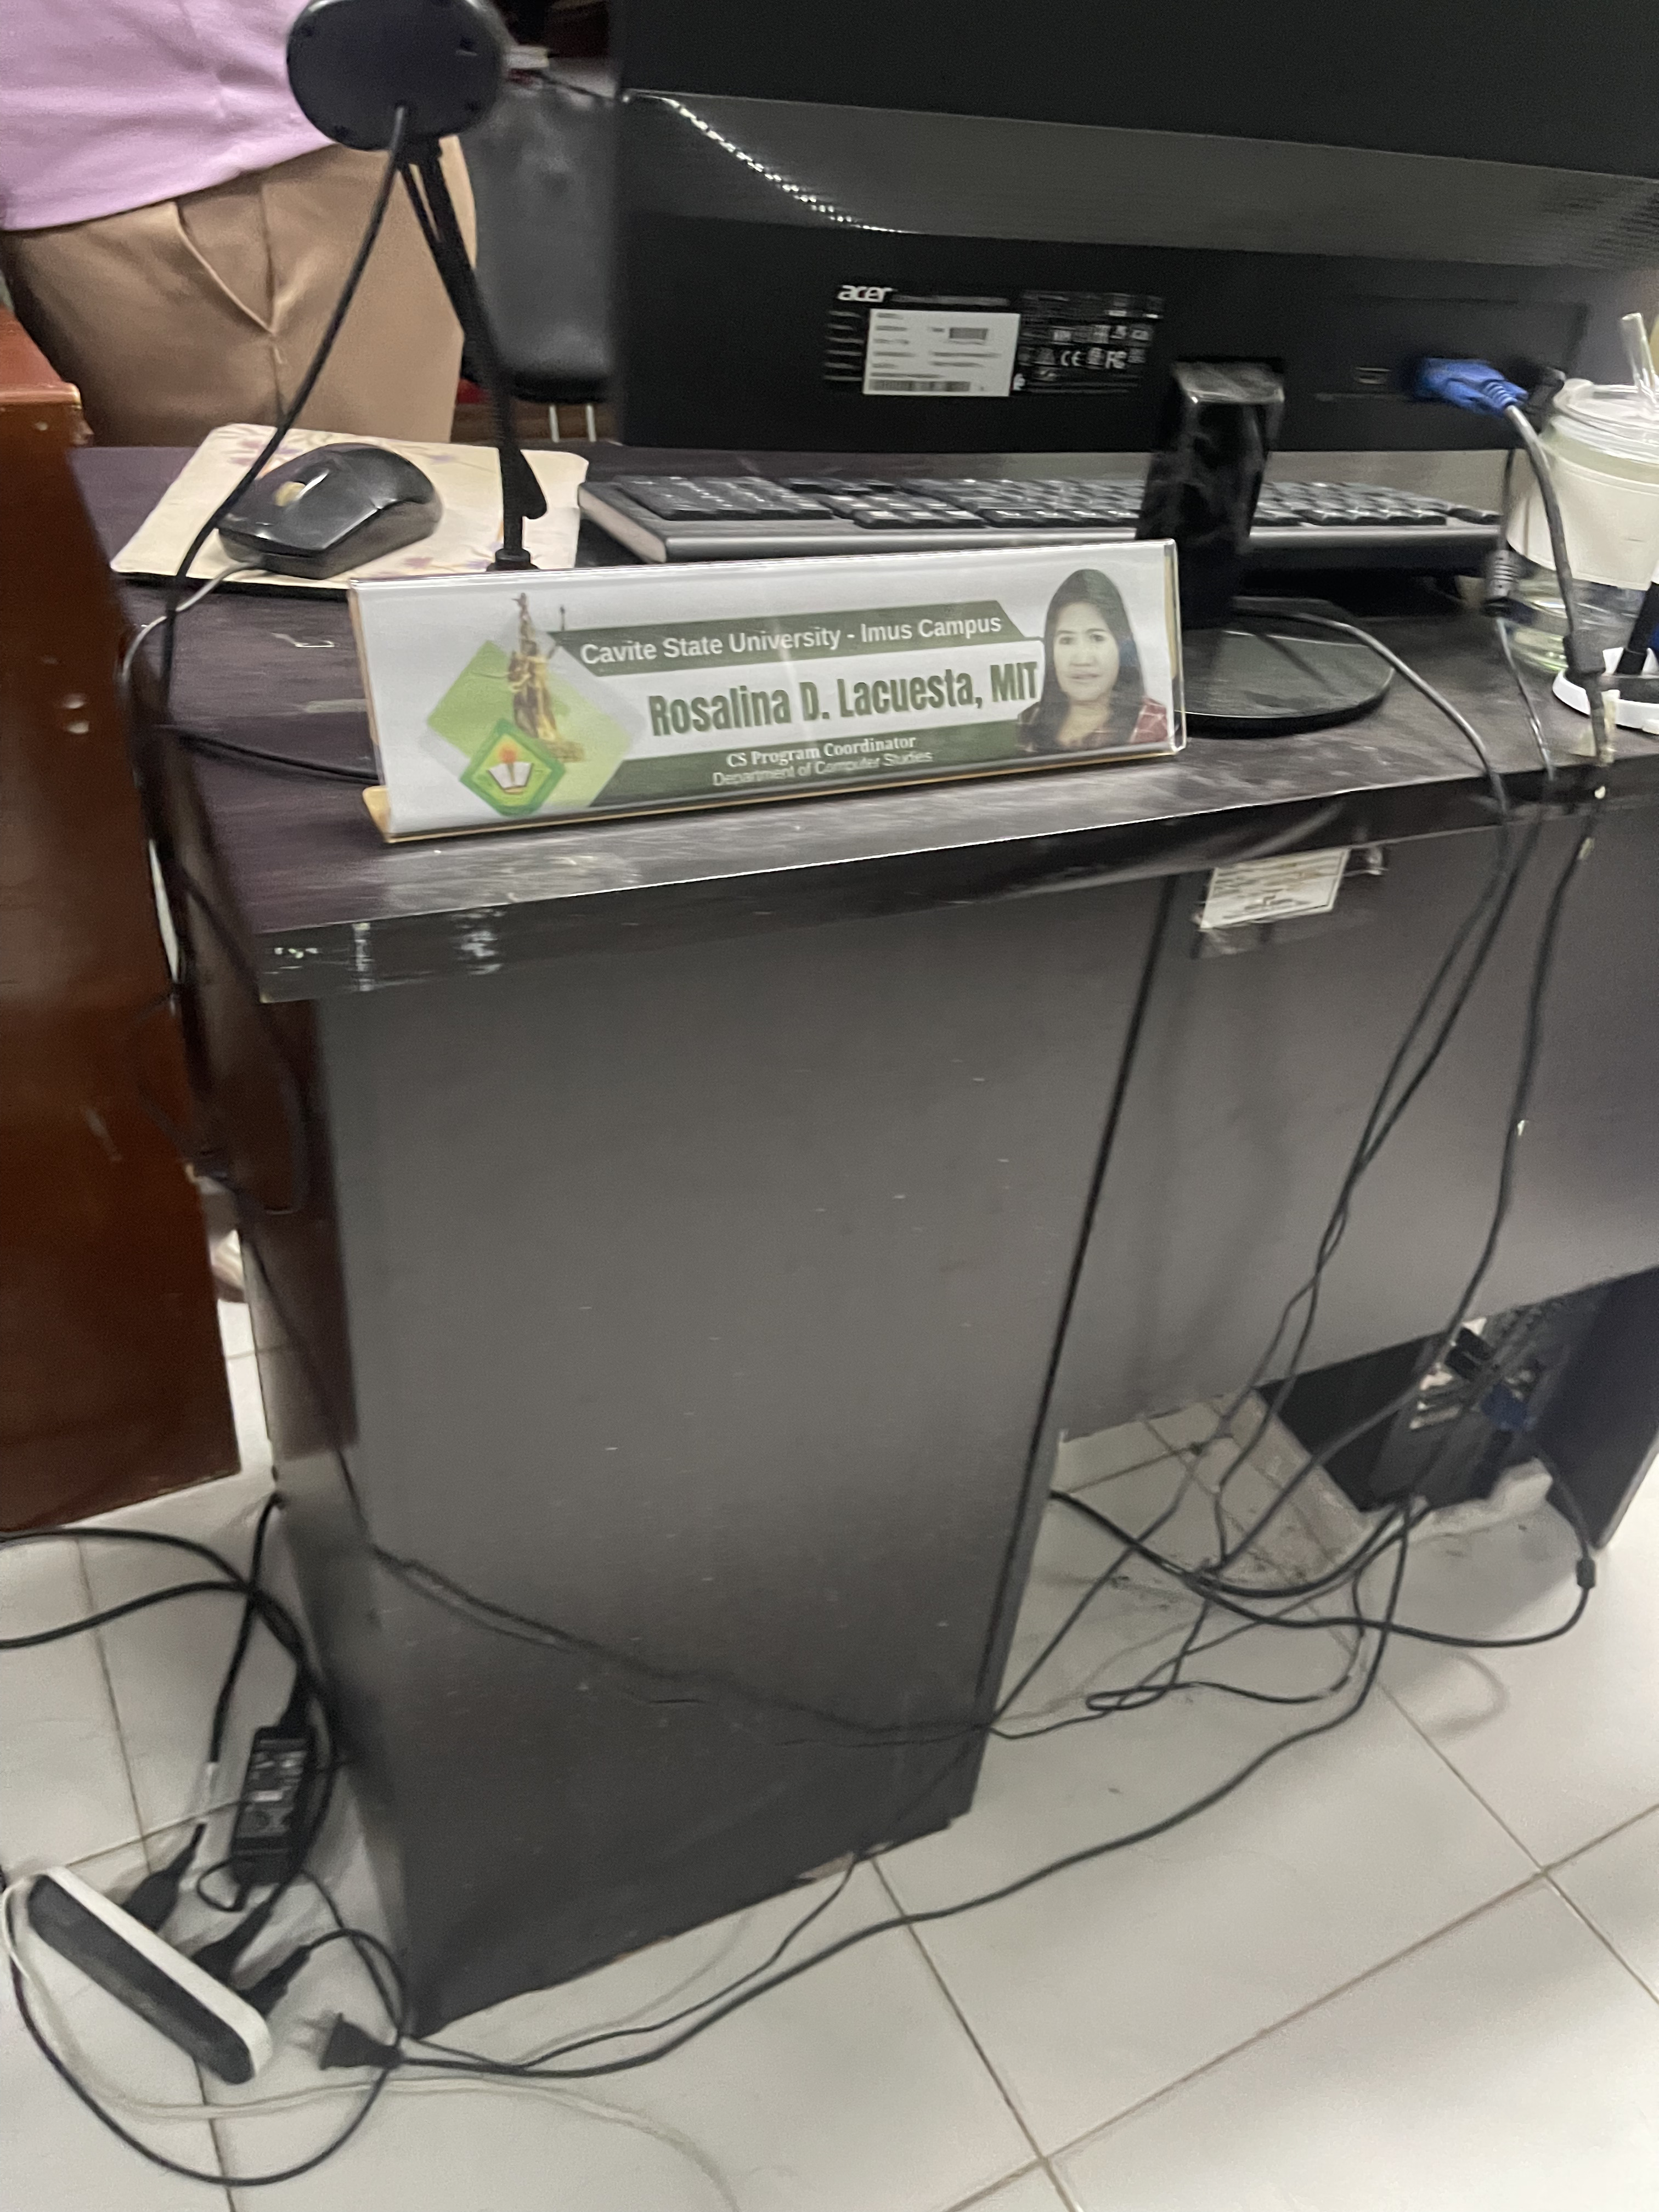table1: (45, 378, 1659, 2054)
